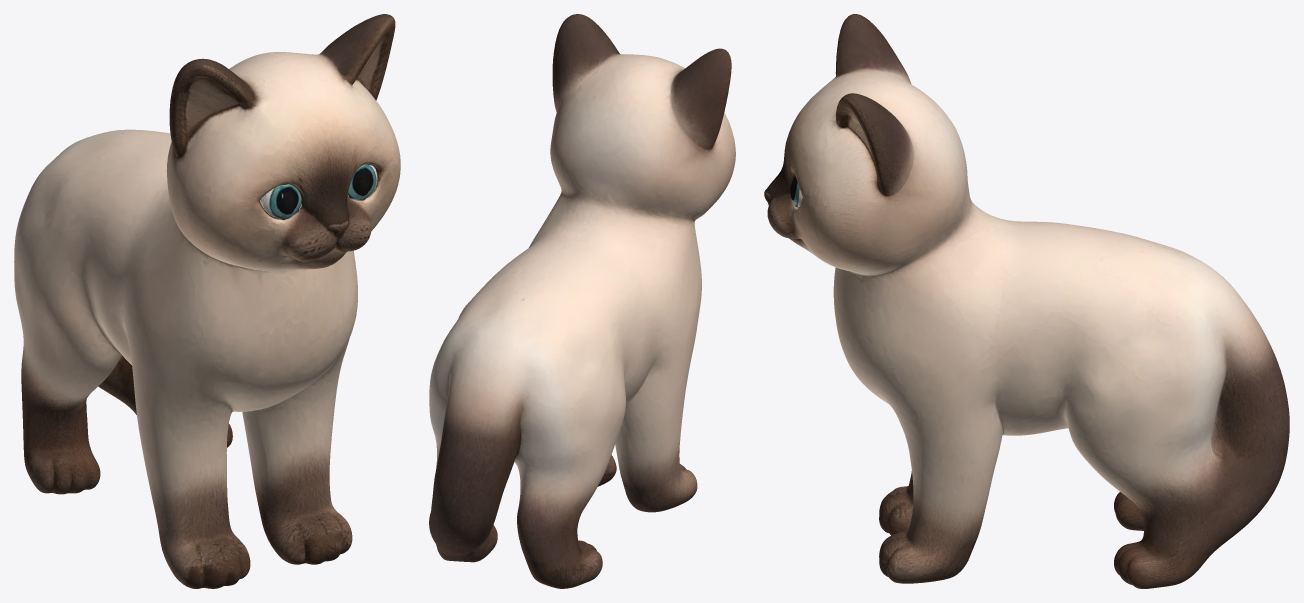
File: meshy-tonkinese.glb
3 renders of one model, left to right at view 1: azimuth 30°, elevation 25°; view 2: azimuth 150°, elevation 25°; view 3: azimuth 270°, elevation 25°, orthographic. The views are drawn at different scales.
Parts seen in each view (by area): view 1: Mesh_0; view 2: Mesh_0; view 3: Mesh_0.
Part boxes in pixels (box(x1,y1,x2,y2)): Mesh_0: box(14, 14, 400, 588); Mesh_0: box(429, 14, 735, 588); Mesh_0: box(764, 14, 1289, 588).
Bounding box in the file's own units: 0.7891 × 1.9 × 1.83.
1 material, 1 textured.
